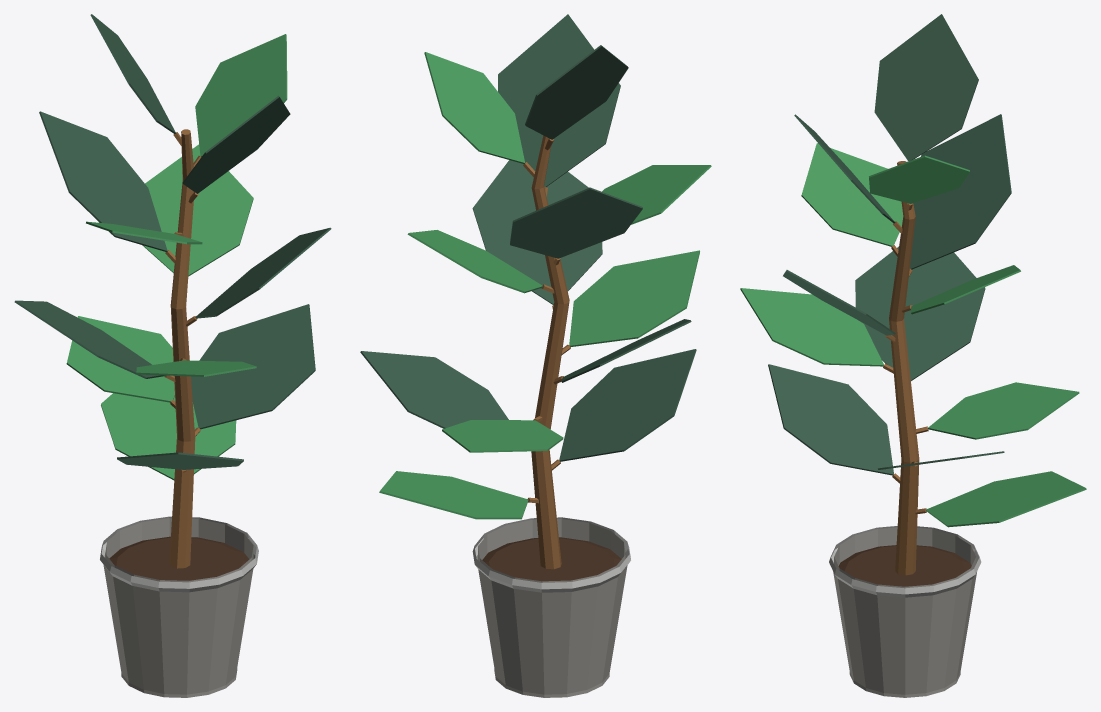
File: FN_Plant_Tall.obj
3 views of the same model, side by side, from view 1: azimuth 30°, elevation 25°; view 2: azimuth 150°, elevation 25°; view 3: azimuth 270°, elevation 25° (orthographic). The views are drawn at different scales.
Visible parts, largest first — view 1: FN_Plant_Tall; view 2: FN_Plant_Tall; view 3: FN_Plant_Tall.
Part boxes in pixels (x1,y1,x2,y2): FN_Plant_Tall: (14, 14, 331, 697); FN_Plant_Tall: (360, 14, 711, 697); FN_Plant_Tall: (740, 14, 1086, 697).
Size of the model in its own units: 0.7947 by 1.6 by 0.7998.
1 material, 1 textured.
